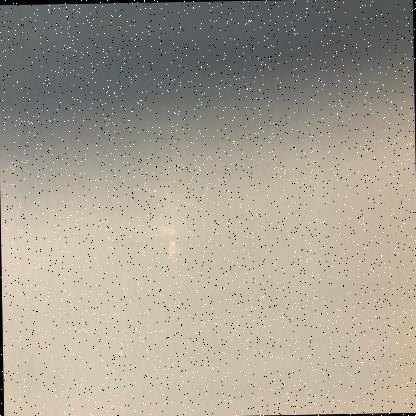Nocrack: (20, 11, 408, 399)
